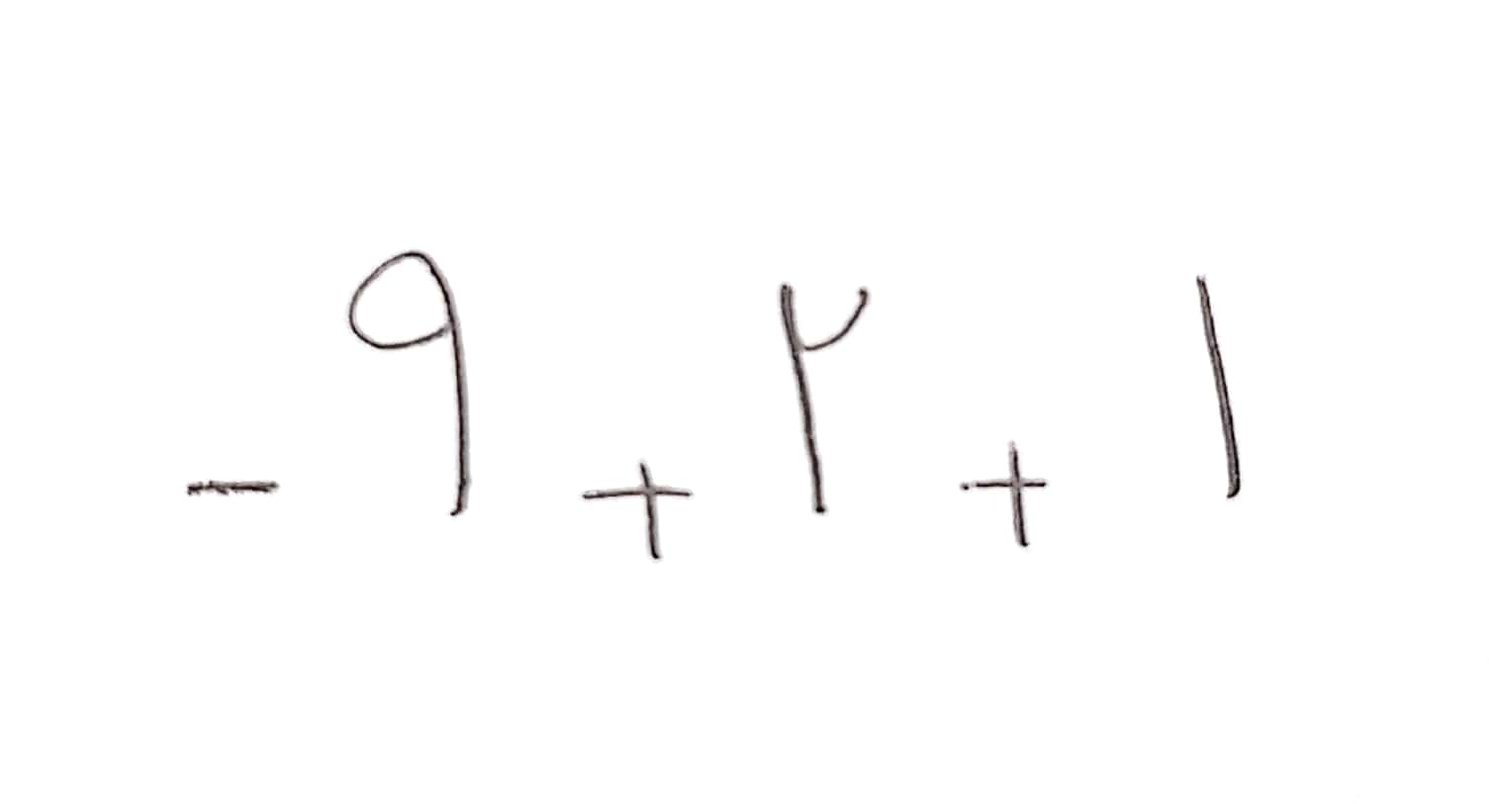character: (349, 250, 467, 515), (780, 283, 870, 515), (583, 461, 691, 558), (1196, 276, 1240, 498), (963, 443, 1048, 547), (186, 480, 279, 497)
